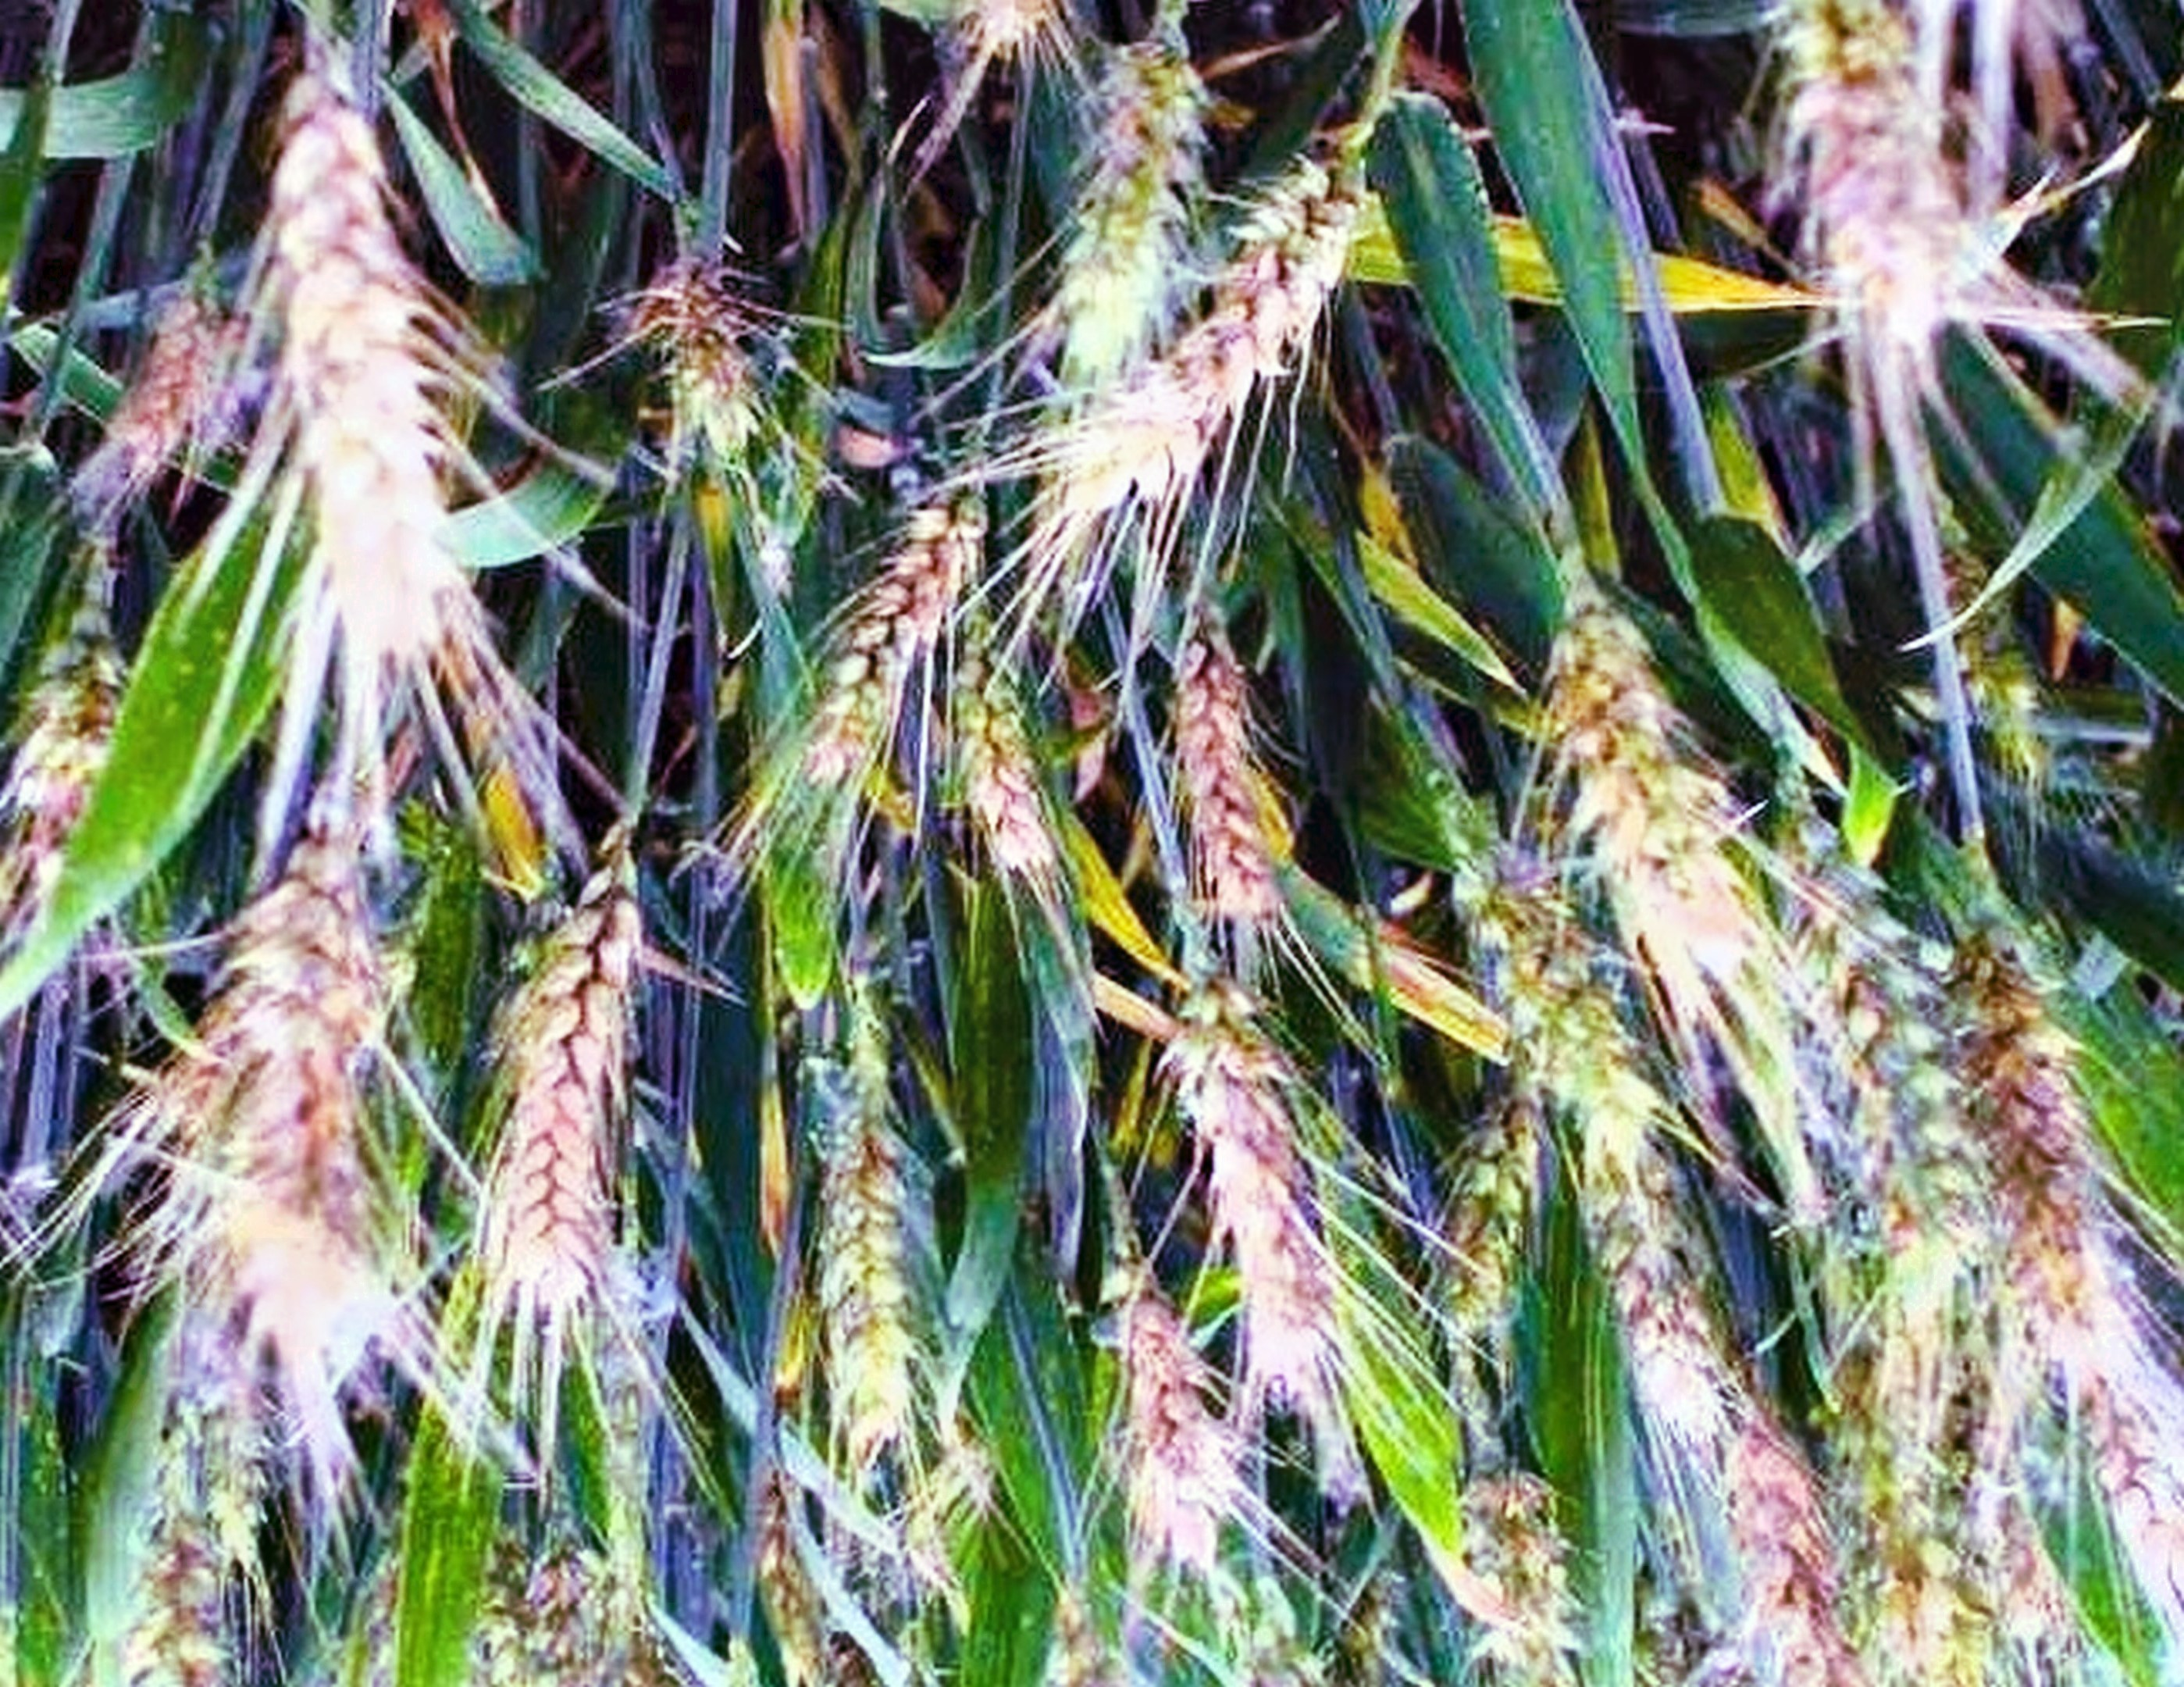Wheat scab: (1100, 147, 1380, 480), (489, 842, 668, 1318), (1157, 975, 1366, 1370), (763, 480, 987, 812), (1151, 601, 1300, 916)
